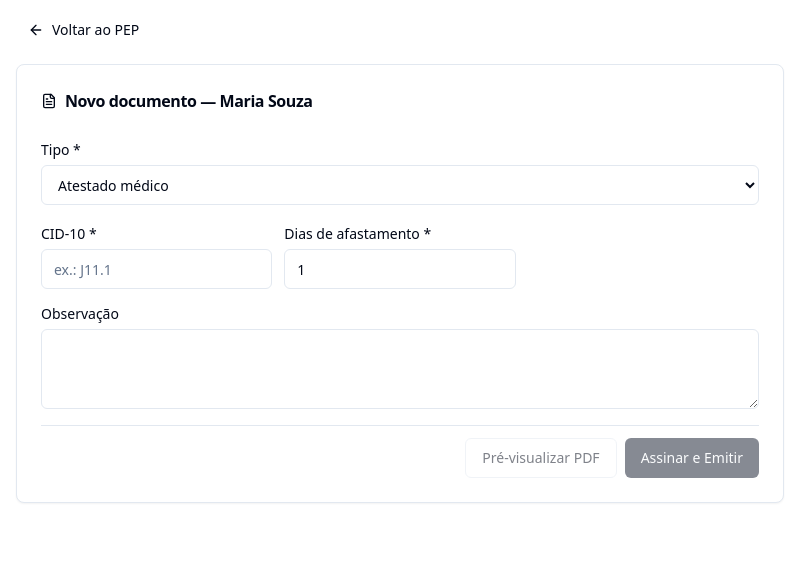
Scenario: <DocumentoFormPage /> › troca para DECLARACAO e exibe campos Finalidade/Texto
Select "Declaração" in the dropdown labelled "Tipo *" at {"x": 400, "y": 185}, box [41, 165, 759, 205]
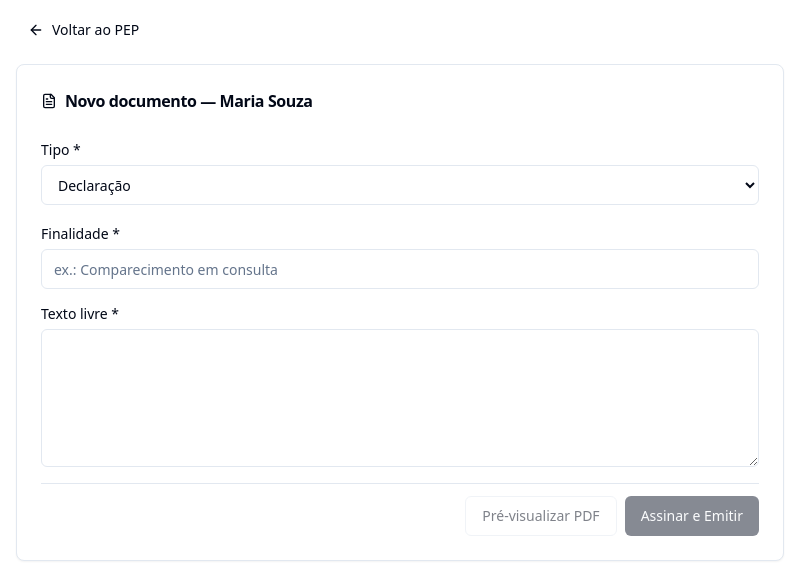
Check: the field labelled "Finalidade *" is shown, box [41, 249, 759, 289]
Check: the text box labelled "Texto livre *" is shown, box [41, 329, 759, 467]
